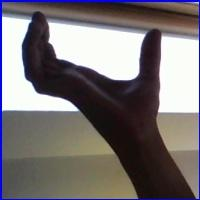space: (13, 9, 172, 134)
